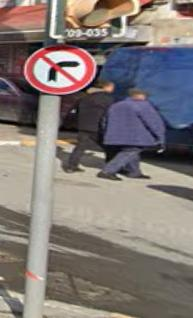rightturnsareforbidden: (26, 43, 95, 94)
